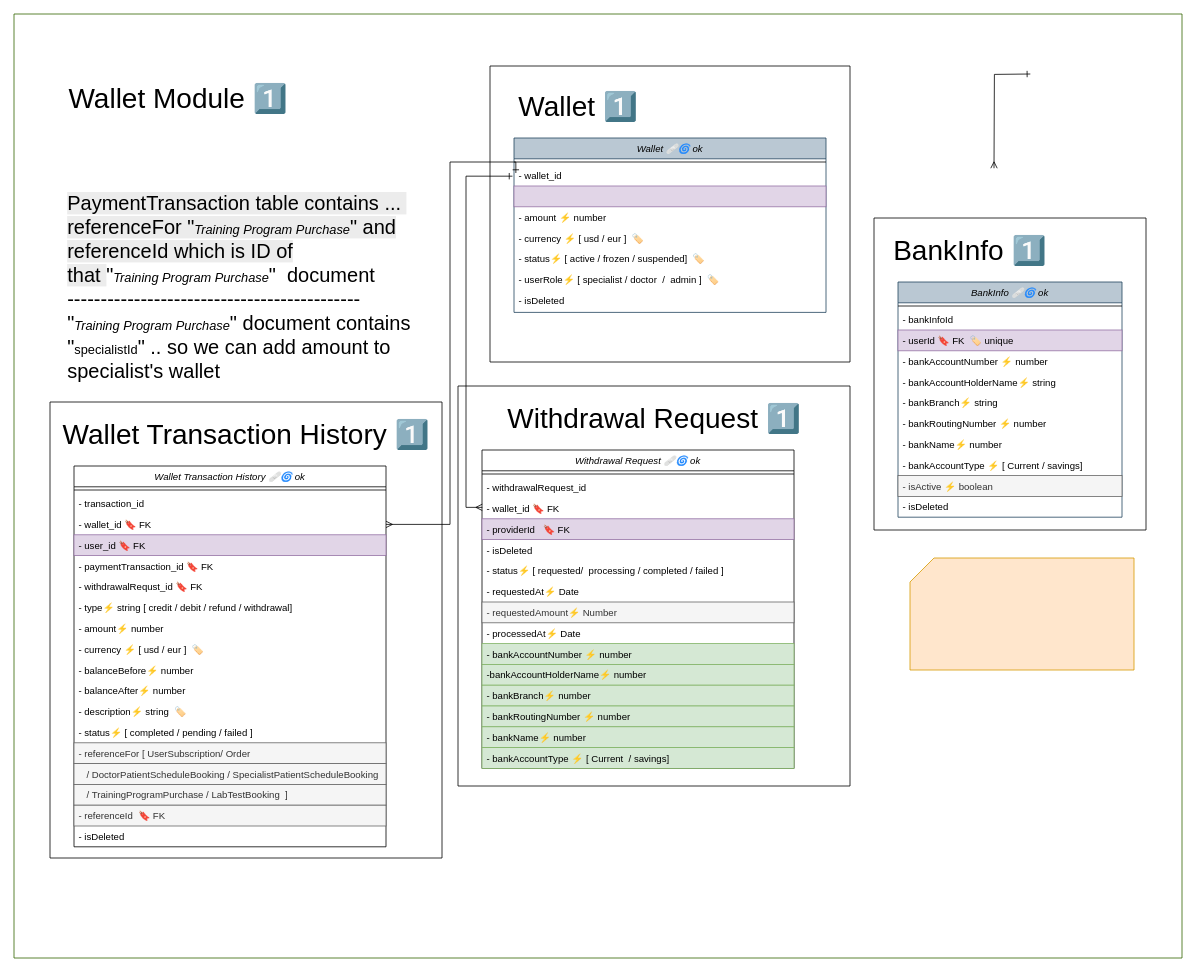
This 1196x972 diagram has some shape labels left out. Each missing label, with the centre of its shape:
"- user_id 🔖 FK 🏷️ unique" belongs at (669,196).
"04 -> 04 .. what is total balance and total withdrawal balance" belongs at (1021,613).
